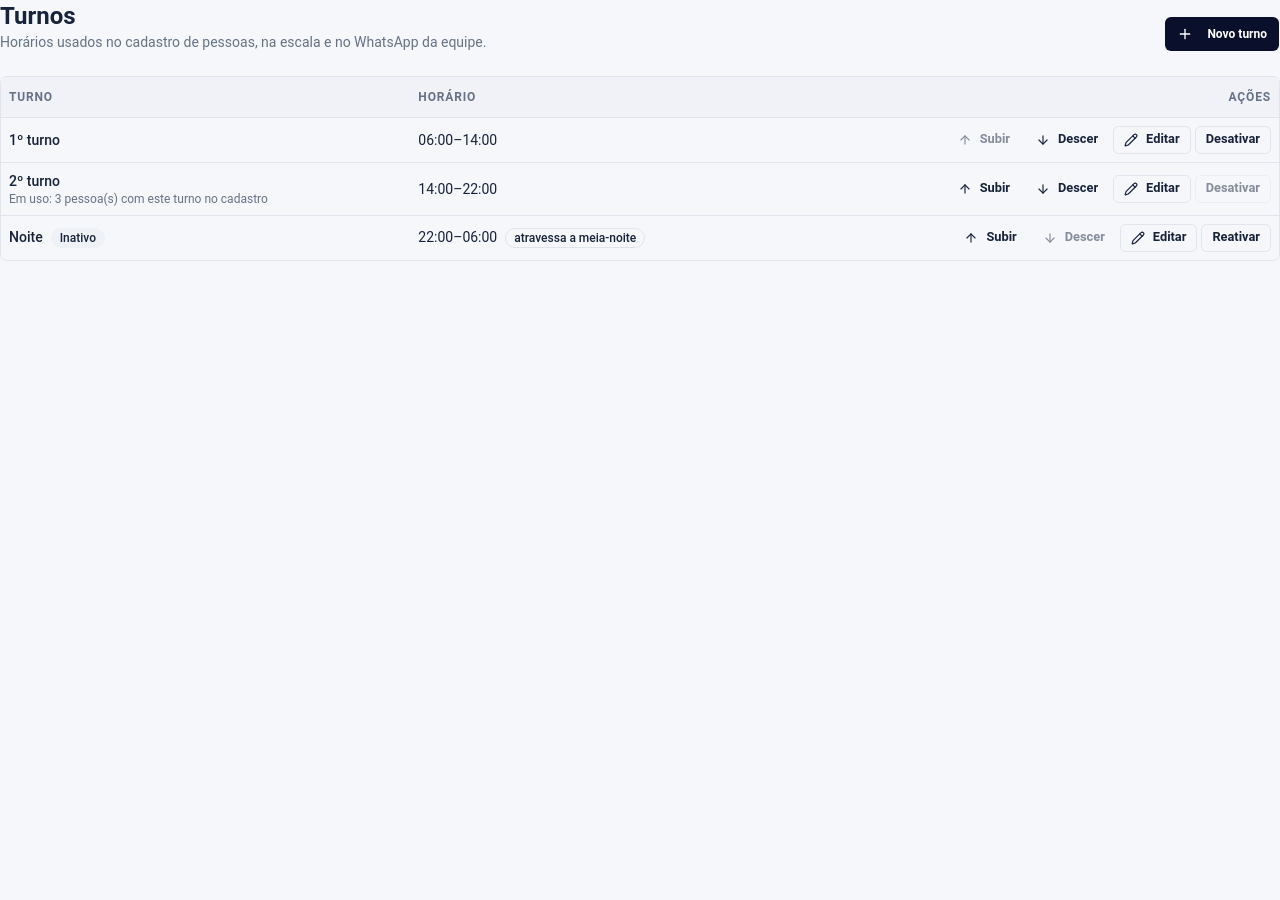
Scenario: /turnos: formulário › 409 shifts.name_taken mostra "Já existe um turno com esse nome."
Click the button "Novo turno" at (1222, 34), box x1=1164 y1=16 x2=1279 y2=52
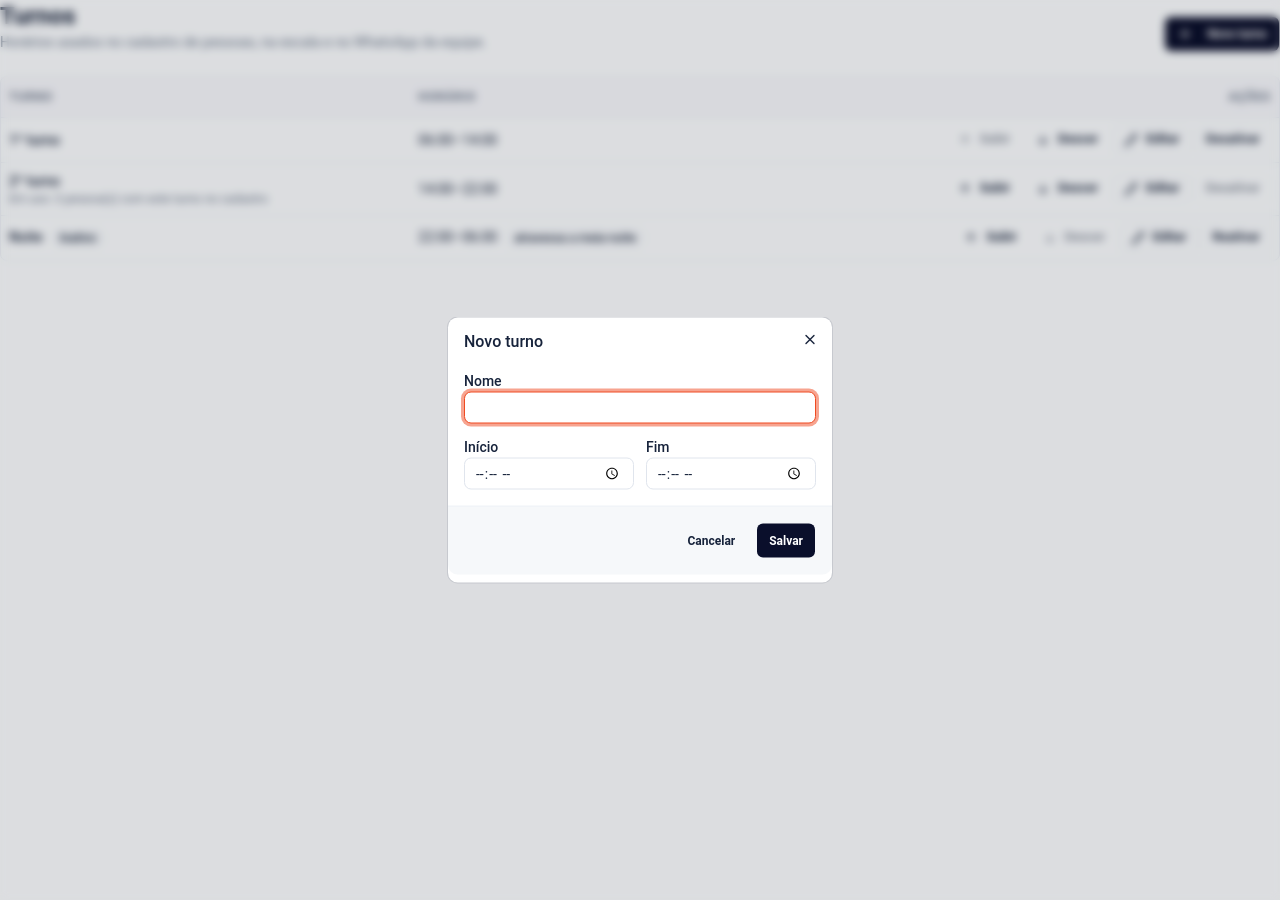
Type "Noite" into the field labelled "Nome" at (640, 408), box x1=464 y1=392 x2=816 y2=424
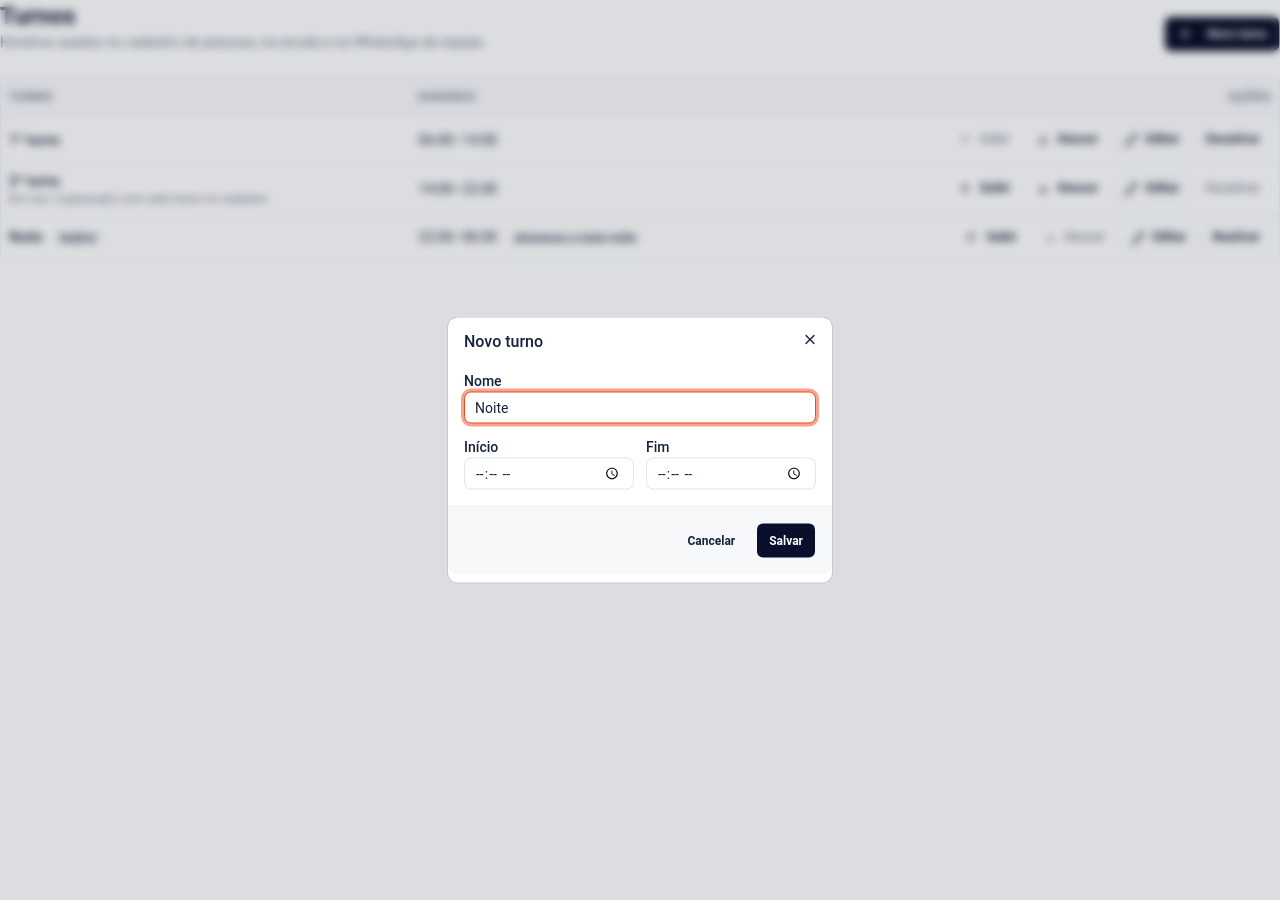
Type "22:00" into the time field labelled "Início" at (549, 474), box x1=464 y1=458 x2=634 y2=490
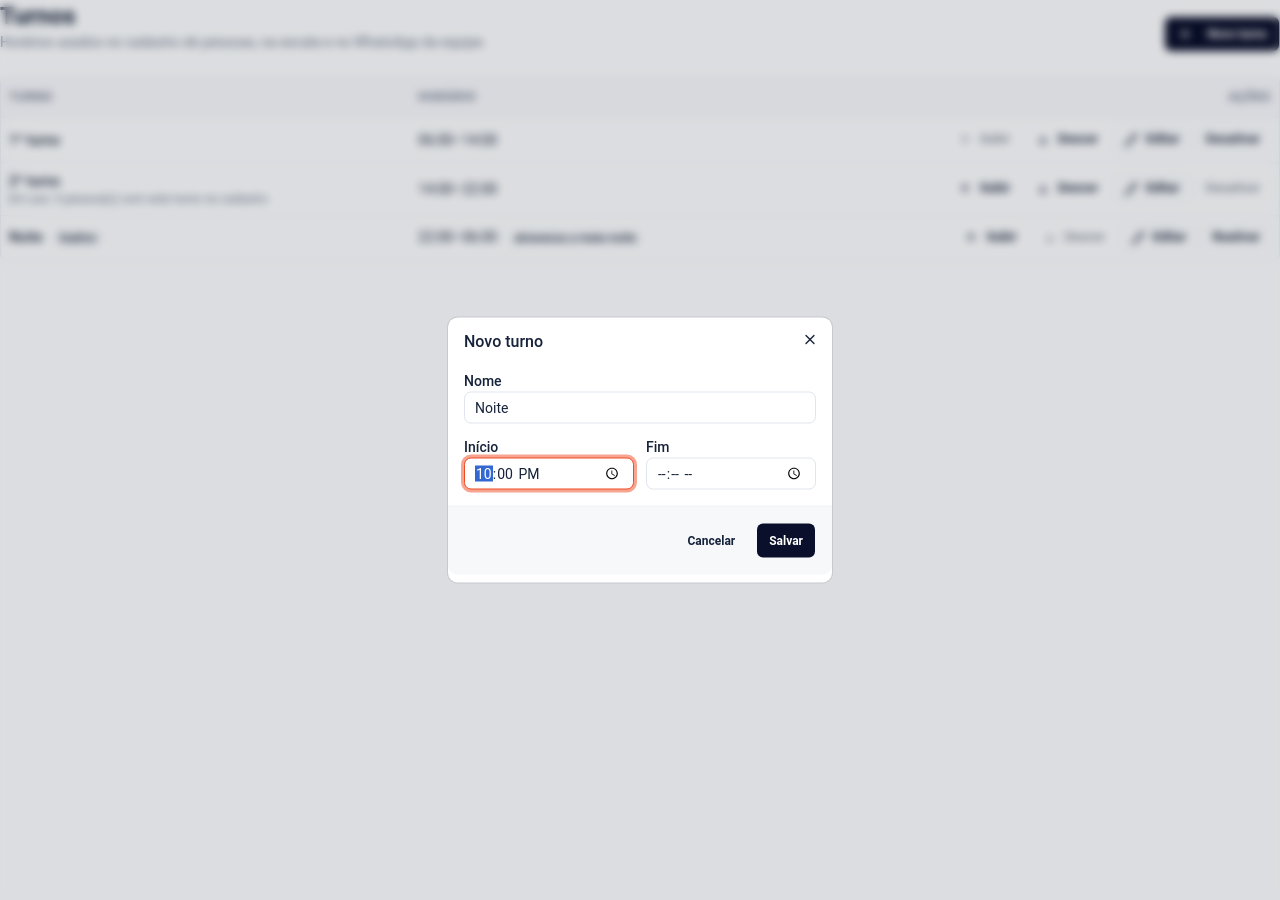
Type "06:00" into the time field labelled "Fim" at (731, 474), box x1=646 y1=458 x2=816 y2=490
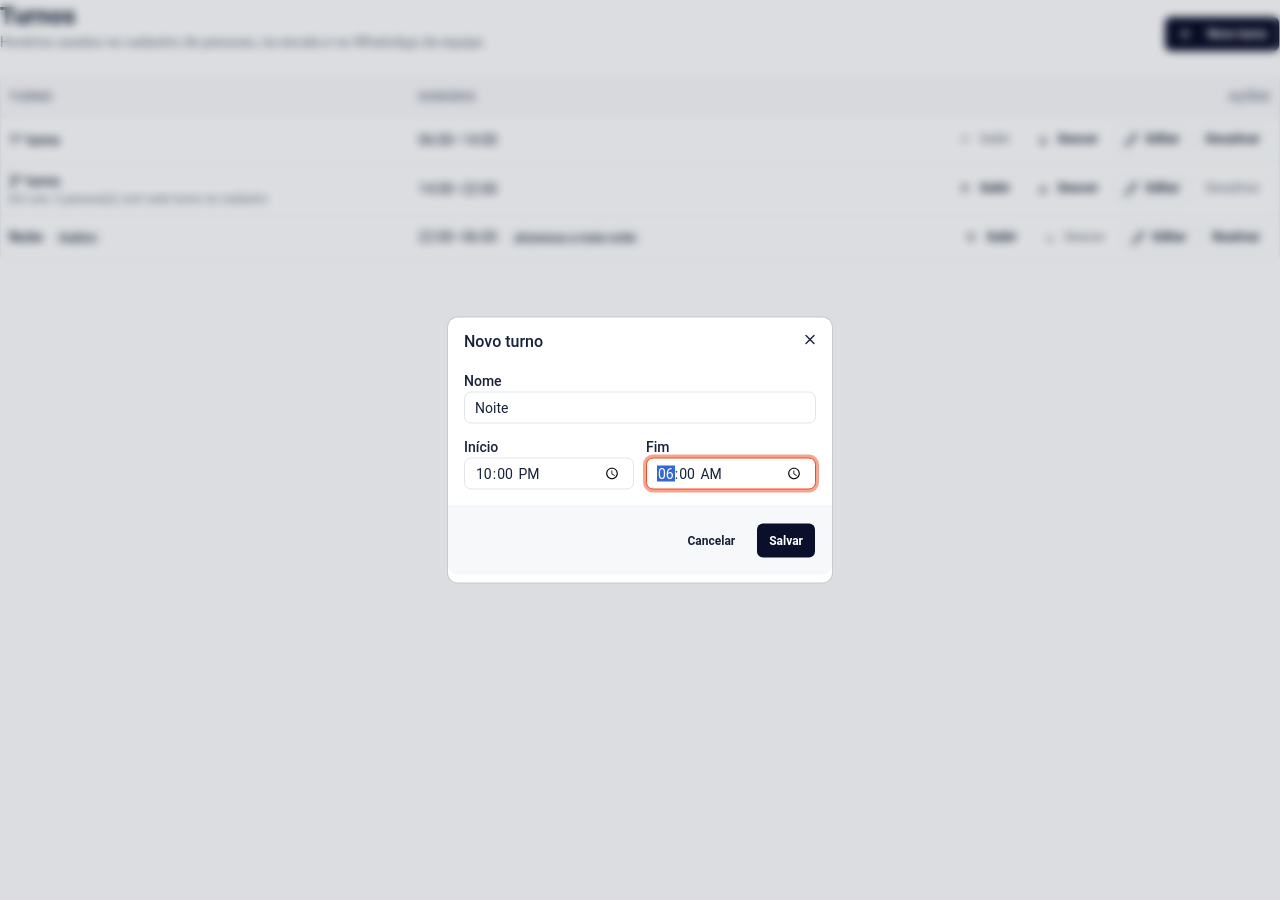
Click the button "Salvar" at (786, 540), box x1=756 y1=522 x2=816 y2=558
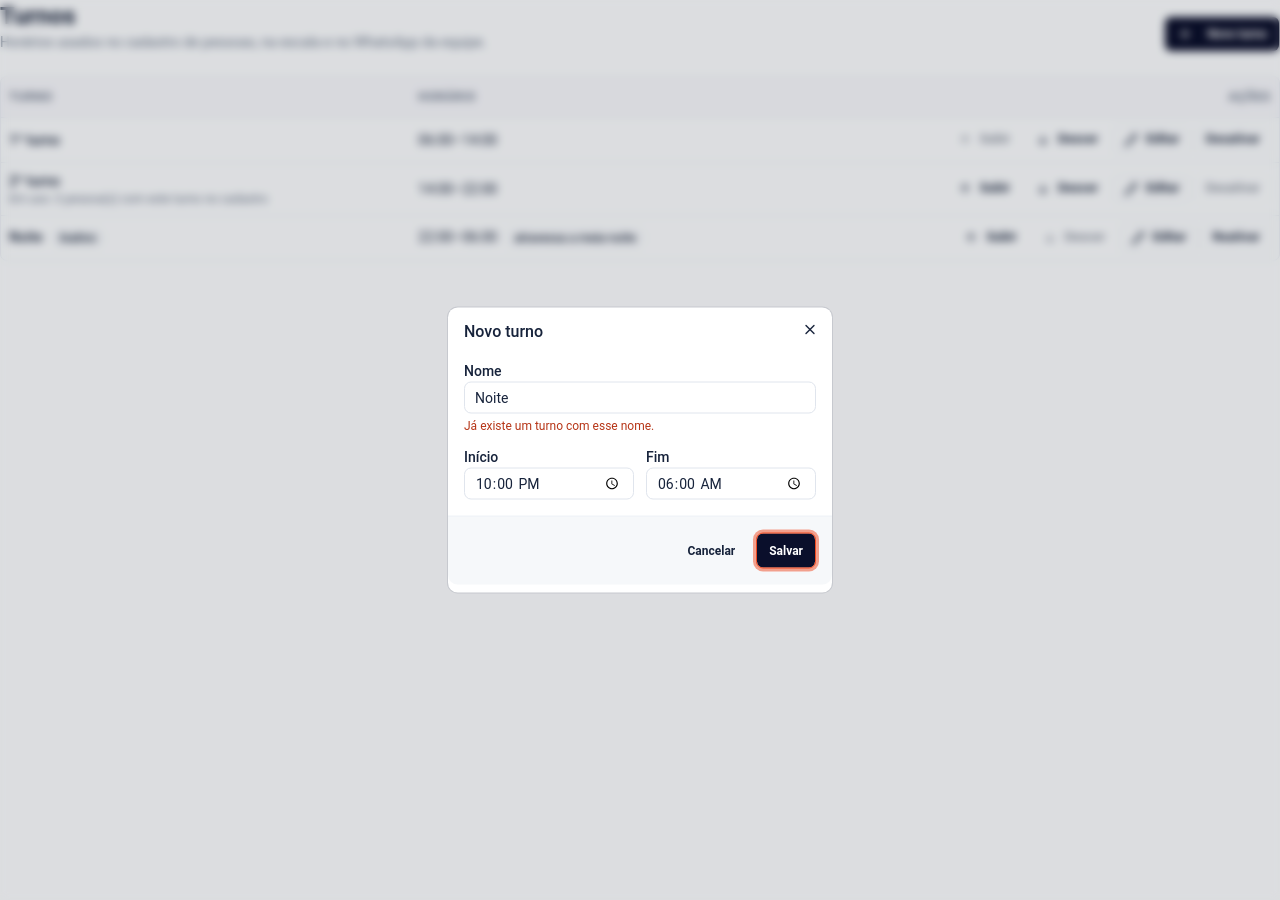
Expected: the text "Já existe um turno com esse nome." is shown, x1=464 y1=418 x2=654 y2=432
